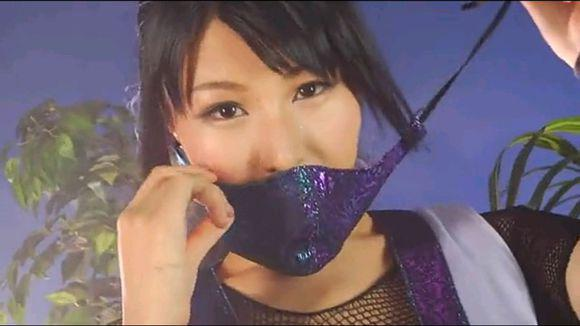WRONG: (181, 68, 376, 263)
